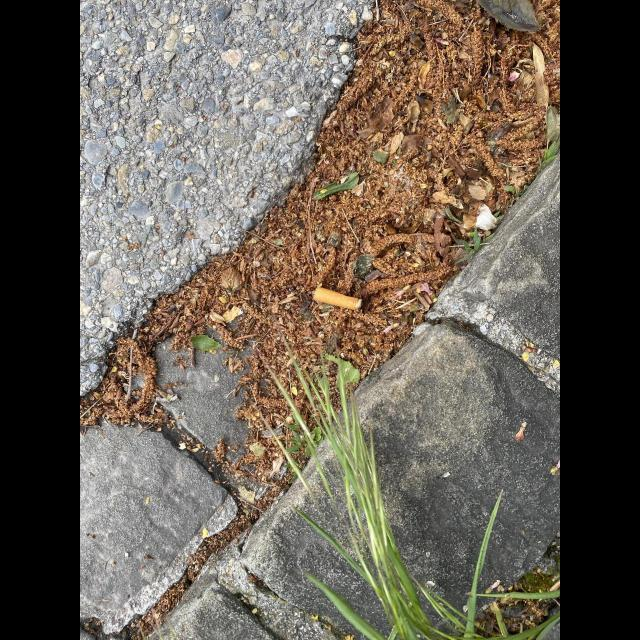cigarette: (314, 286, 364, 312)
